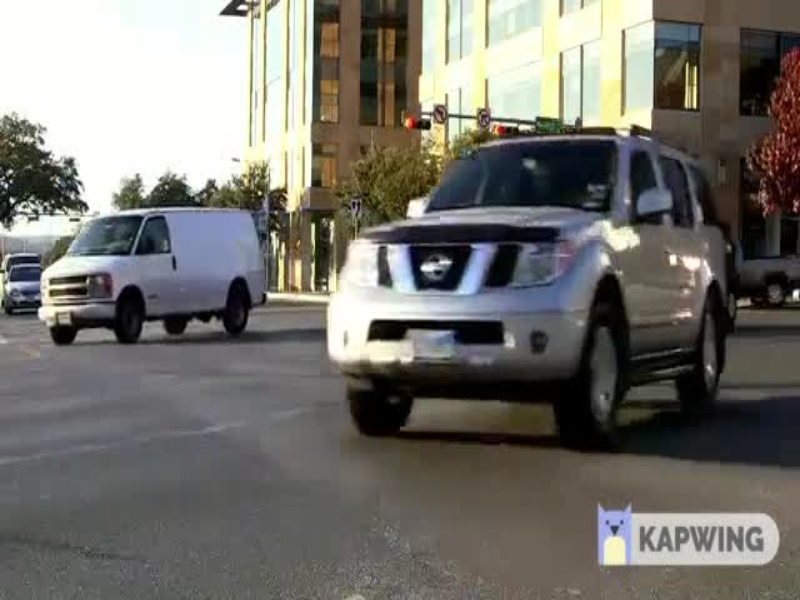car: (324, 120, 738, 450), (40, 189, 282, 359)
